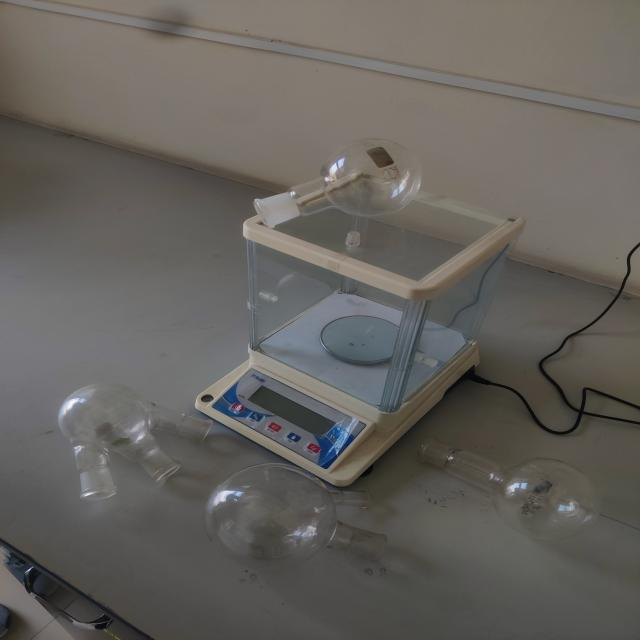Round_Bottom_Flask_Borosilicate_Glass_1_Neck: (393, 389, 628, 556), (224, 108, 456, 244)
Round_Bottom_Flask_Borosilicate_Glass_2_Neck: (182, 429, 420, 582)
Round_Bottom_Flask_Borosilicate_Glass_3_Neck: (5, 356, 241, 519)
